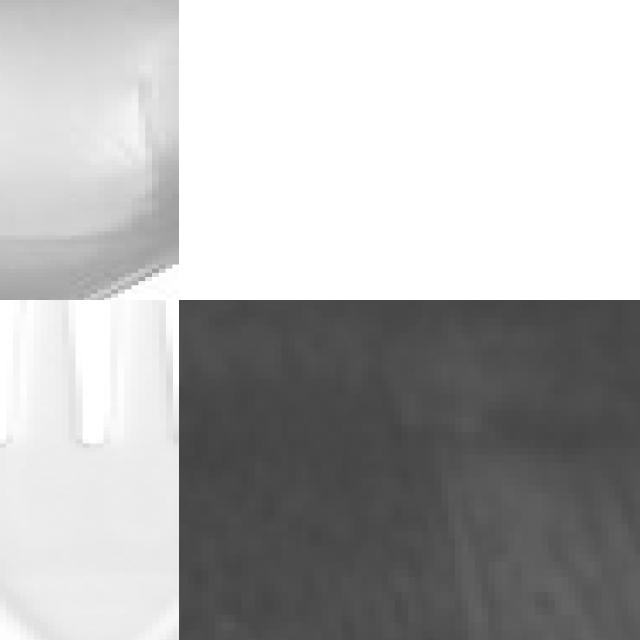forks: (0, 300, 179, 640)
spoons: (0, 0, 179, 300)
